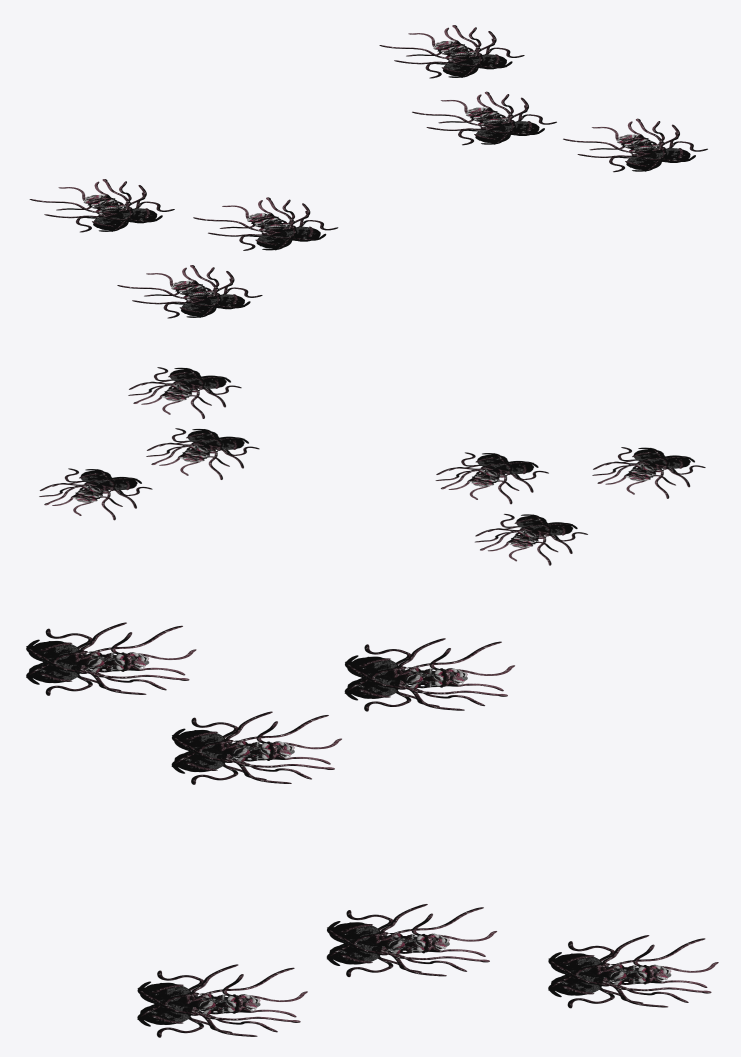
The model's file is lmao.glb.
3 views of the same model, one above another, from view 1: azimuth 30°, elevation 25°; view 2: azimuth 150°, elevation 25°; view 3: azimuth 270°, elevation 25° (orthographic). The views are drawn at different scales.
Parts seen in each view (by area): view 1: dickurath.007, dickurath.009, dickurath.004, dickurath.002, dickurath.008, dickurath.006; view 2: dickurath.006, dickurath.009, dickurath.002, dickurath.004, dickurath.007, dickurath.008; view 3: dickurath.006, dickurath.008, dickurath.002, dickurath.004, dickurath.007, dickurath.009.
Part boxes in pixels (box(x1,y1,x2,y2)): dickurath.007: box(29, 179, 174, 232); dickurath.009: box(117, 265, 262, 318); dickurath.004: box(193, 197, 338, 250); dickurath.002: box(412, 91, 556, 145); dickurath.008: box(379, 25, 524, 78); dickurath.006: box(563, 118, 707, 172); dickurath.006: box(128, 367, 241, 418); dickurath.009: box(592, 447, 705, 498); dickurath.002: box(146, 428, 259, 479); dickurath.004: box(435, 452, 548, 504); dickurath.007: box(475, 514, 587, 565); dickurath.008: box(39, 468, 152, 520); dickurath.006: box(137, 964, 307, 1037); dickurath.008: box(548, 935, 718, 1008); dickurath.002: box(326, 904, 496, 976); dickurath.004: box(171, 711, 341, 784); dickurath.007: box(344, 638, 514, 711); dickurath.009: box(26, 622, 196, 695).
Bounding box in the file's own units: 5.25 × 1.75e-07 × 3.74.
1 material, 1 textured.
